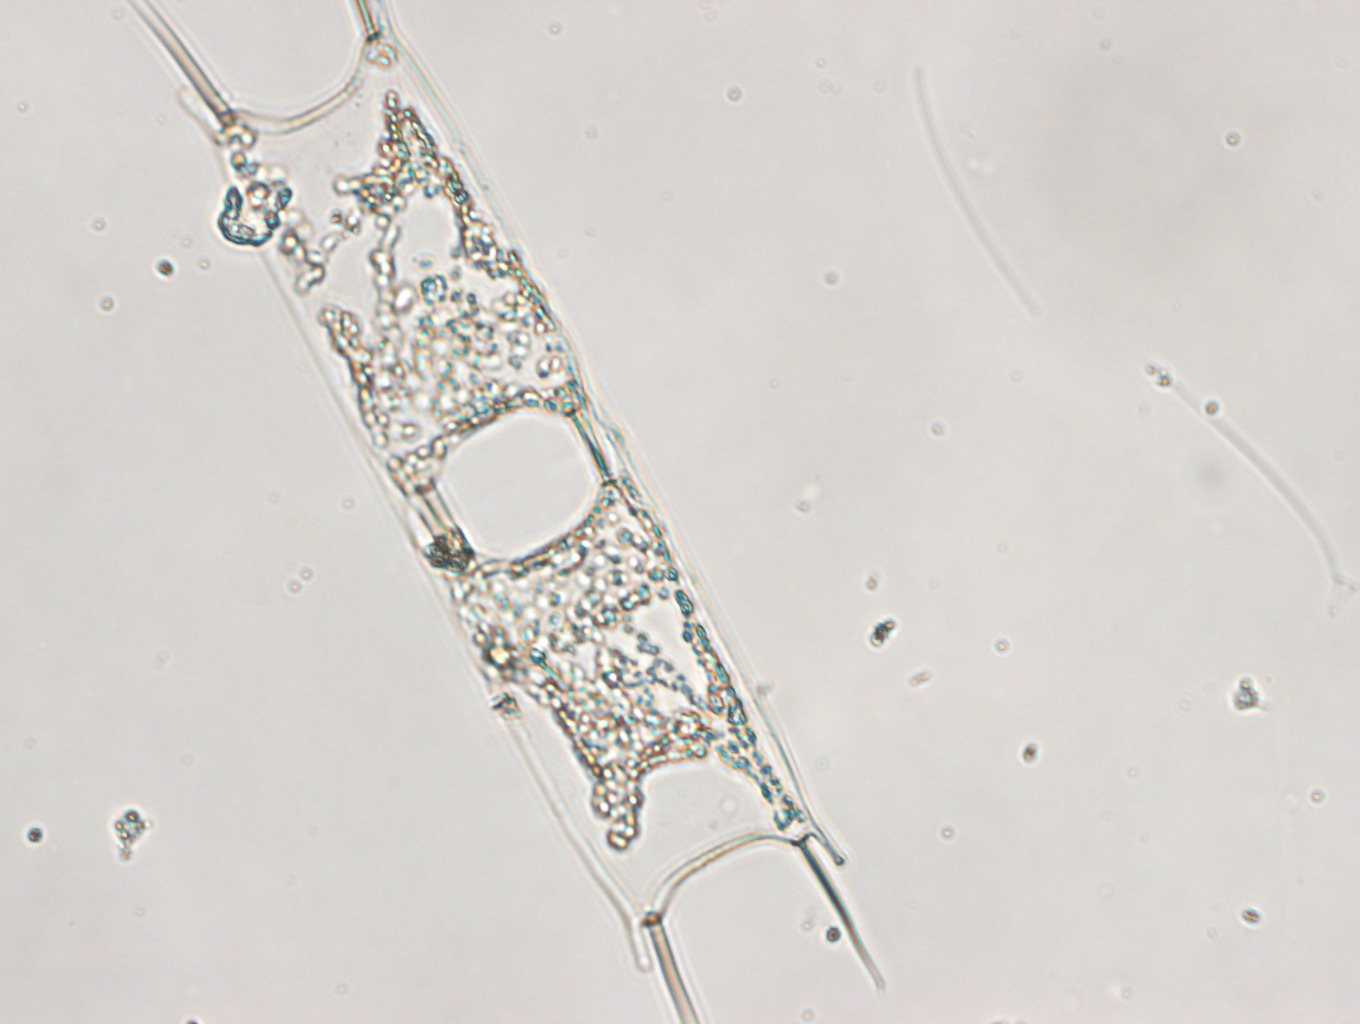biddulphia: (129, 1, 883, 1024)
